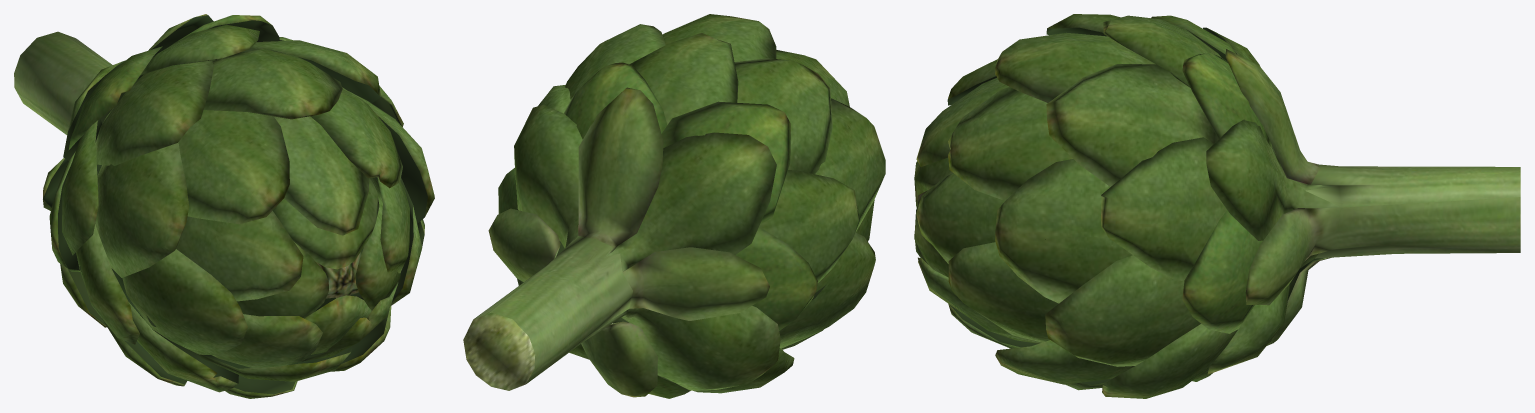
Rendered from Plant.fbx.
3 renders of one model, left to right at view 1: azimuth 30°, elevation 25°; view 2: azimuth 150°, elevation 25°; view 3: azimuth 270°, elevation 25°, orthographic. The views are drawn at different scales.
Parts seen in each view (by area): view 1: 12207_Vegetable_v1_L3; view 2: 12207_Vegetable_v1_L3; view 3: 12207_Vegetable_v1_L3.
Boxes of the visible parts, <box> form: 12207_Vegetable_v1_L3: <box>14,14,434,398</box>; 12207_Vegetable_v1_L3: <box>463,14,885,398</box>; 12207_Vegetable_v1_L3: <box>914,14,1520,398</box>.
Size of the model in its own units: 703 by 704 by 1108.
